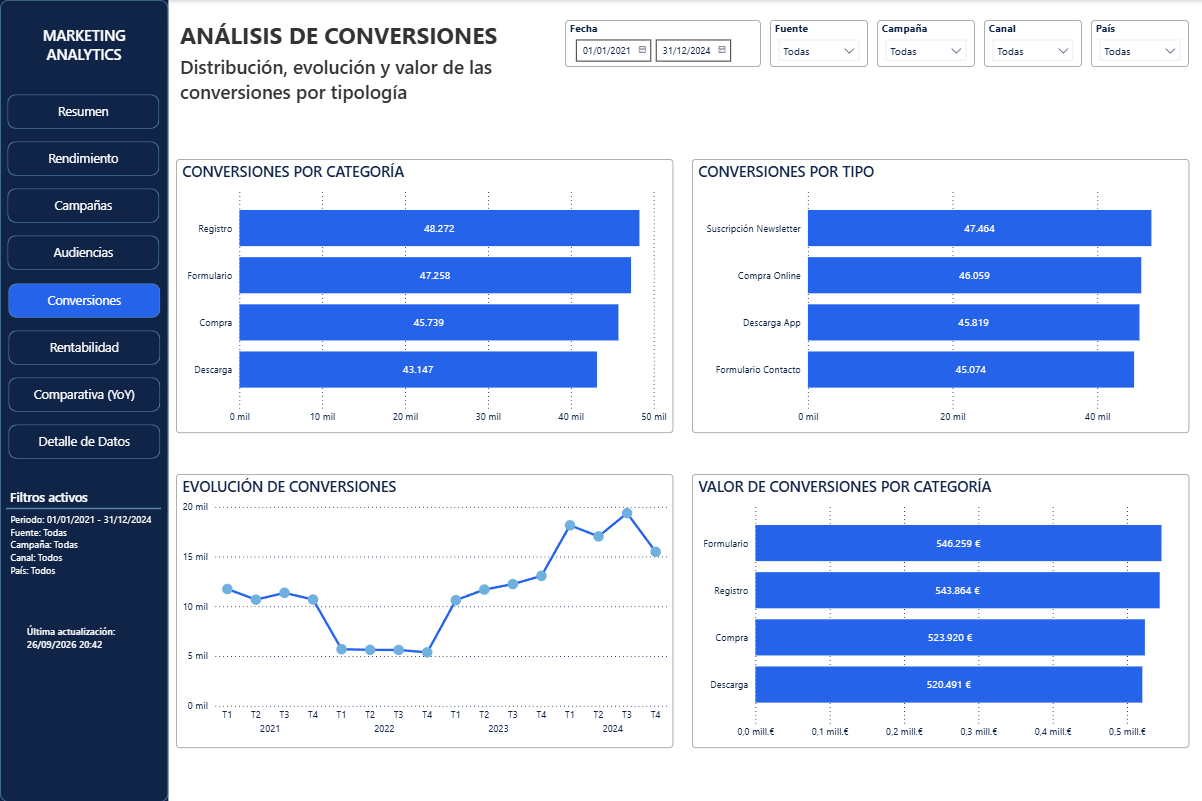

What the dashboard file says about the page in this screenshot:
{"tool":"powerbi","page":{"name":"Conversiones","canvas":[1536,1024],"ordinal":4},"visuals":[{"type":"group","id":"g1","title":"Grupo 3","box":[0,0,215,1024],"z":0,"group":"g2"},{"type":"shape","box":[0,0,215,1024],"z":0,"group":"g1"},{"type":"group","id":"g2","title":"Grupo 4","box":[0,0,214.5,1024],"z":0},{"type":"textbox","title":"ANÁLISIS DE CONVERSIONES","box":[224.7,24.3,462.2,109.8],"z":1000},{"type":"textbox","box":[1.3,26.8,212,68.9],"z":1000,"group":"g1"},{"type":"shape","box":[6.4,117.5,200,50],"z":1000,"group":"g2"},{"type":"slicer","title":"País","fields":{"Values":["DimPais.AudienciaPais"]},"box":[1393,25,125,60],"z":2000},{"type":"shape","box":[6.6,177.7,200,50],"z":2000,"group":"g2"},{"type":"slicer","title":"Fuente","fields":{"Values":["DimFuente.Fuente"]},"box":[983.2,25,125,60],"z":3000},{"type":"shape","box":[6.7,237.9,200,50],"z":3000,"group":"g2"},{"type":"slicer","title":"Canal","fields":{"Values":["DimCanal.CampaniaCanal"]},"box":[1256.4,25,125,60],"z":4000},{"type":"shape","box":[6.9,298,200,50],"z":4000,"group":"g2"},{"type":"slicer","title":"Fecha","fields":{"Values":["DimCalendar.Fecha"]},"box":[721.4,25,250.3,60],"z":5000},{"type":"shape","box":[7.1,358.2,200,50],"z":5000,"group":"g2"},{"type":"shape","box":[7.3,418.4,200,50],"z":6000,"group":"g2"},{"type":"slicer","title":"Campaña","fields":{"Values":["DimCampania.CampaniaNombre"]},"box":[1119.8,25,125,60],"z":7000},{"type":"shape","box":[7.5,478.6,200,50],"z":7000,"group":"g2"},{"type":"clusteredBarChart","title":"CONVERSIONES POR CATEGORÍA","fields":{"Category":["DimCatConversion.CategoriaConversion"],"Y":["_Medidas.Conversiones"]},"box":[224.7,203,635,350],"z":8000},{"type":"shape","box":[7.7,538.8,200,50],"z":8000,"group":"g2"},{"type":"clusteredBarChart","title":"CONVERSIONES POR TIPO","fields":{"Category":["DimNomConversión.NombreConversion"],"Y":["_Medidas.Conversiones"]},"box":[883.6,203,635,350],"z":9000},{"type":"textbox","box":[7.7,619.3,199.2,33.2],"z":9000},{"type":"lineChart","title":"EVOLUCIÓN DE CONVERSIONES","fields":{"Category":["DimCalendar.#Año","DimCalendar.Trimestre"],"Y":["_Medidas.Conversiones"]},"box":[224.7,605.2,635,350],"z":10000},{"type":"clusteredBarChart","title":"VALOR DE CONVERSIONES POR CATEGORÍA","fields":{"Category":["DimCatConversion.CategoriaConversion"],"Y":["_Medidas.Valor Conversiones"]},"box":[883.6,605.2,635,350],"z":11000},{"type":"cardVisual","fields":{"Data":["Medidas.Última Actualización"]},"box":[20.4,766.1,169.8,93.2],"z":11001},{"type":"cardVisual","fields":{"Data":["_Medidas.Filtros Activos - Resumen"]},"box":[1.3,619.3,213.2,150.7],"z":11002},{"type":"shape","box":[7.7,635.9,197.9,26.8],"z":11003}]}

Visuals, with their boxes in screenshot pixels (x1, y1, x2, y2), scaled from the page's 1536x1024 canvas onto the 1202x801 screenshot:
"Grupo 3" group: [0,0,168,800]
shape: [0,0,168,800]
"Grupo 4" group: [0,0,168,800]
"ANÁLISIS DE CONVERSIONES" textbox: [176,19,538,105]
textbox: [1,21,167,75]
shape: [5,92,162,131]
"País" slicer: [1090,20,1188,66]
shape: [5,139,162,178]
"Fuente" slicer: [769,20,867,66]
shape: [5,186,162,225]
"Canal" slicer: [983,20,1081,66]
shape: [5,233,162,272]
"Fecha" slicer: [565,20,760,66]
shape: [6,280,162,319]
shape: [6,327,162,366]
"Campaña" slicer: [876,20,974,66]
shape: [6,374,162,413]
"CONVERSIONES POR CATEGORÍA" clusteredBarChart: [176,159,673,433]
shape: [6,421,163,461]
"CONVERSIONES POR TIPO" clusteredBarChart: [691,159,1188,433]
textbox: [6,484,162,510]
"EVOLUCIÓN DE CONVERSIONES" lineChart: [176,473,673,747]
"VALOR DE CONVERSIONES POR CATEGORÍA" clusteredBarChart: [691,473,1188,747]
cardVisual - Medidas.Última Actualización: [16,599,149,672]
cardVisual - _Medidas.Filtros Activos - Resumen: [1,484,168,602]
shape: [6,497,161,518]
